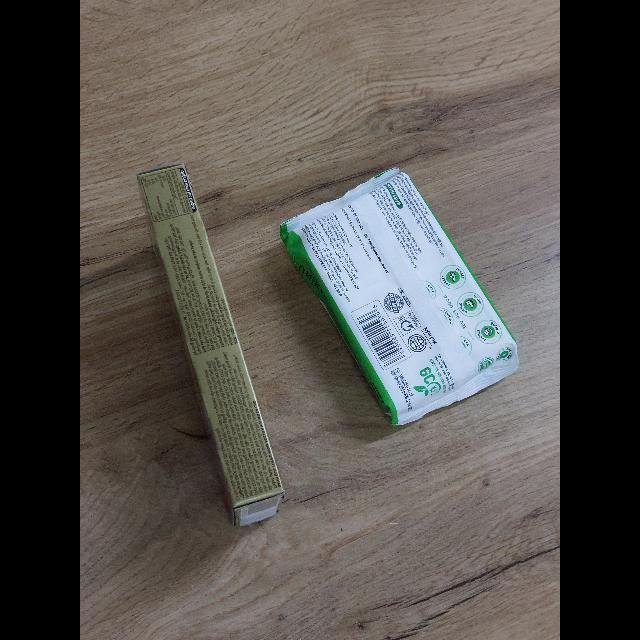banh_toppo_socola: (137, 162, 284, 530)
khan_giay: (279, 169, 520, 430)
